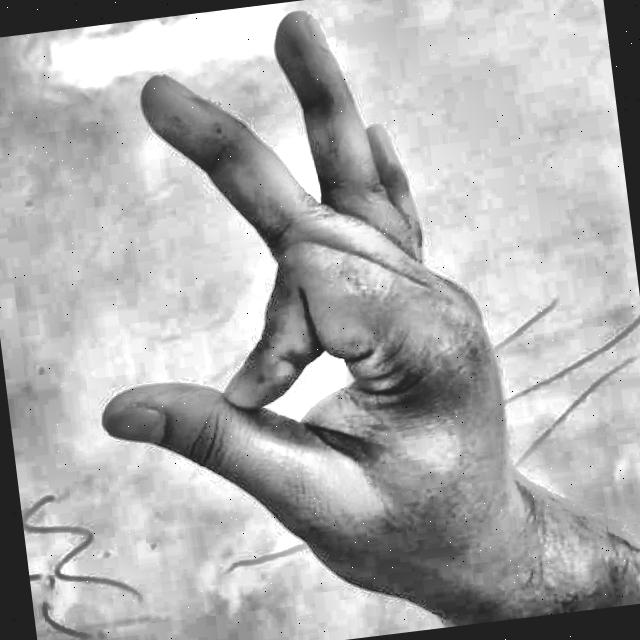Uo: (14, 0, 633, 640)
